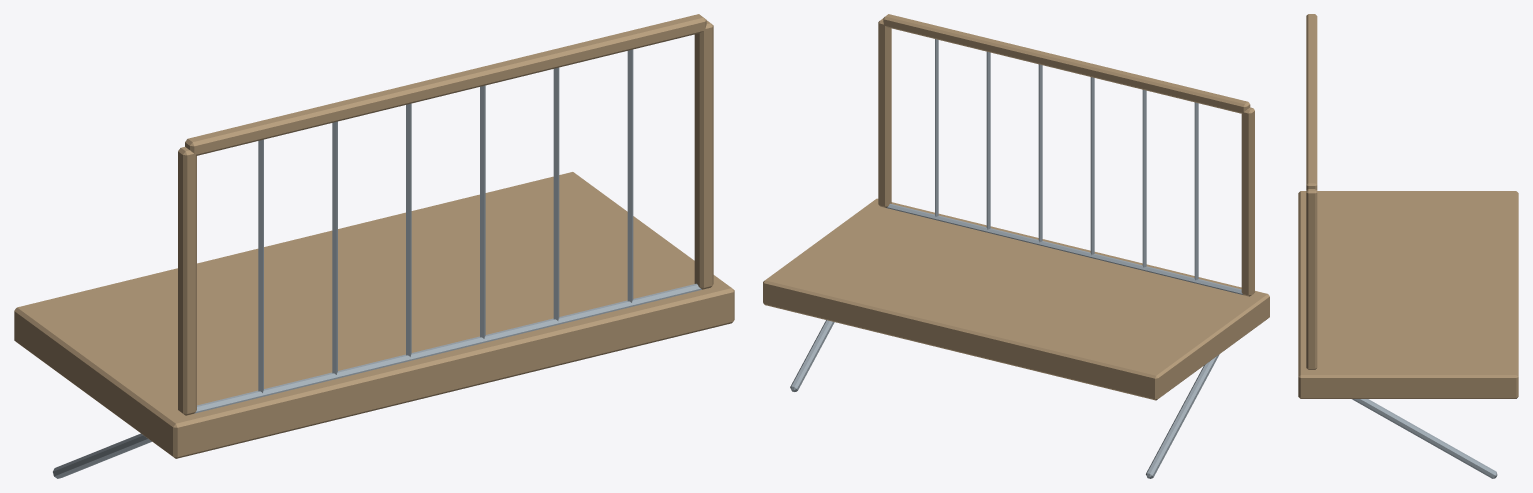
Rendered from balcony_railing.glb.
3 views of the same model, side by side, from view 1: azimuth 30°, elevation 25°; view 2: azimuth 150°, elevation 25°; view 3: azimuth 270°, elevation 25° (orthographic). The views are drawn at different scales.
Visible parts, largest first — view 1: balcony_railing; view 2: balcony_railing; view 3: balcony_railing.
Part boxes in pixels (<box>): balcony_railing: <box>14,14,734,478</box>; balcony_railing: <box>763,14,1269,478</box>; balcony_railing: <box>1298,14,1518,478</box>.
Size of the model in its own units: 2 by 1.48 by 1.
